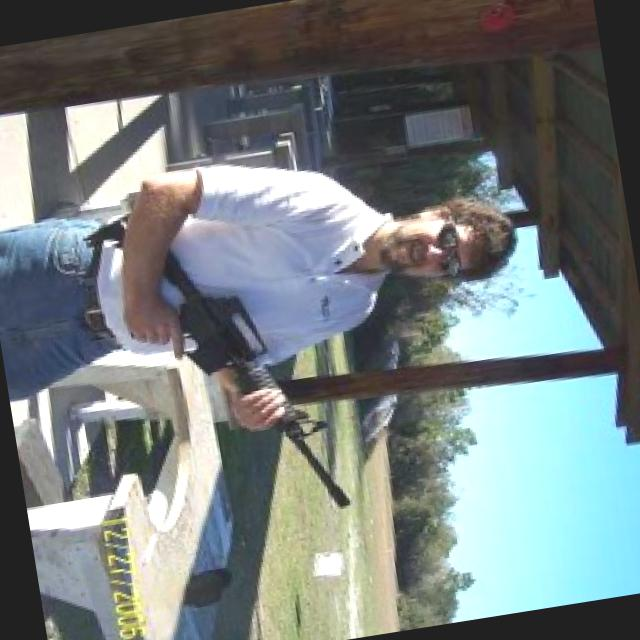long weapon: (66, 182, 373, 533)
